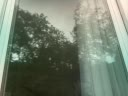window: (2, 1, 128, 96)
